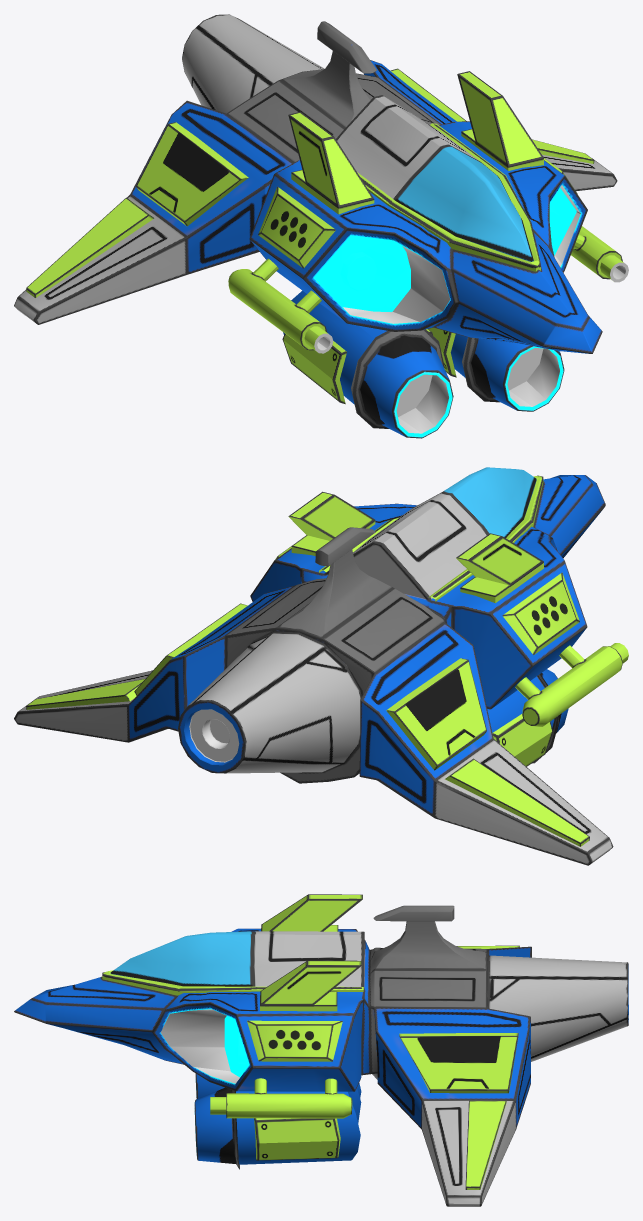
File: Ship_Fighter.fbx
The picture shows the model from 3 angles, top to bottom: view 1: azimuth 30°, elevation 25°; view 2: azimuth 150°, elevation 25°; view 3: azimuth 270°, elevation 25°; orthographic projection. The views are drawn at different scales.
Visible parts, largest first — view 1: Plane.027; view 2: Plane.027; view 3: Plane.027.
Boxes of the visible parts, left/top/right/bottom form: Plane.027: left=14, top=14, right=628, bottom=438; Plane.027: left=14, top=467, right=628, bottom=865; Plane.027: left=14, top=894, right=628, bottom=1206.
Size of the model in its own units: 389 by 190 by 442.
Materials: 5 (3 with a texture image).
